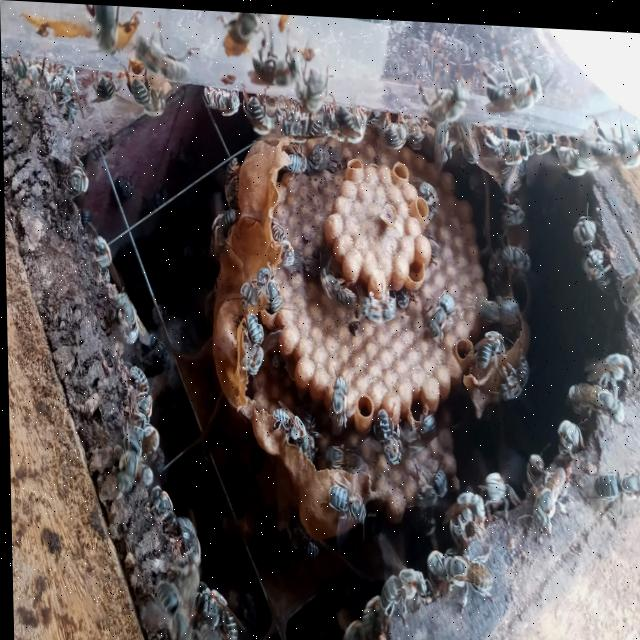Meliponula: (425, 542, 504, 603), (526, 449, 566, 545), (271, 389, 315, 459), (256, 260, 295, 323), (323, 477, 369, 529), (424, 278, 462, 337), (315, 259, 353, 309), (223, 9, 257, 64), (243, 85, 274, 140), (204, 71, 236, 120), (126, 66, 154, 121), (212, 198, 243, 246), (62, 155, 90, 208), (239, 309, 261, 376), (232, 260, 262, 306), (392, 276, 413, 312)
